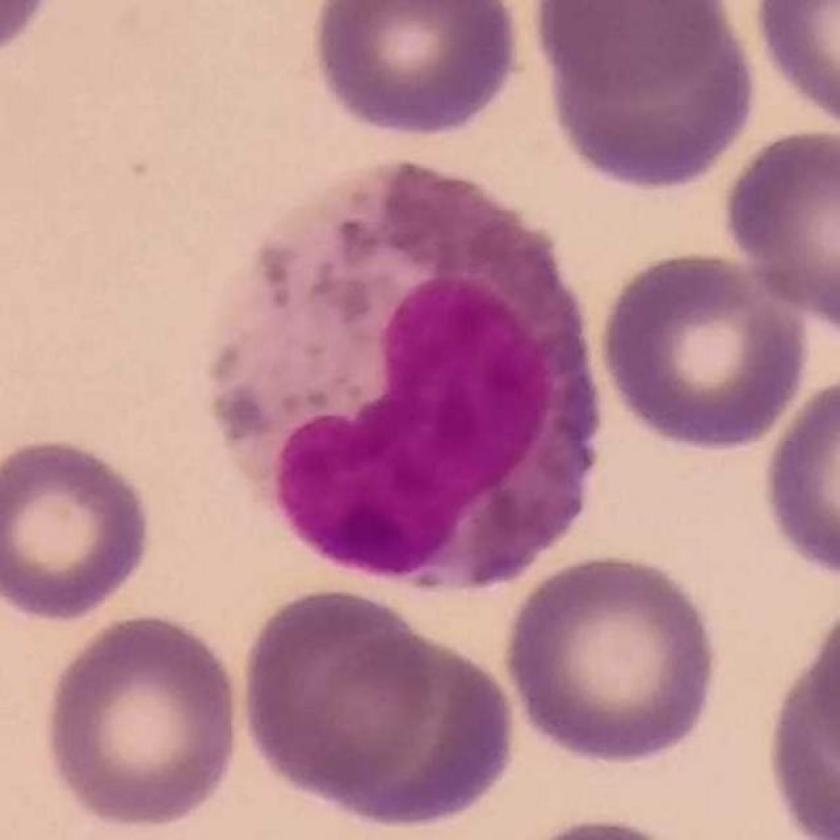eosinophil: (203, 155, 602, 594)
